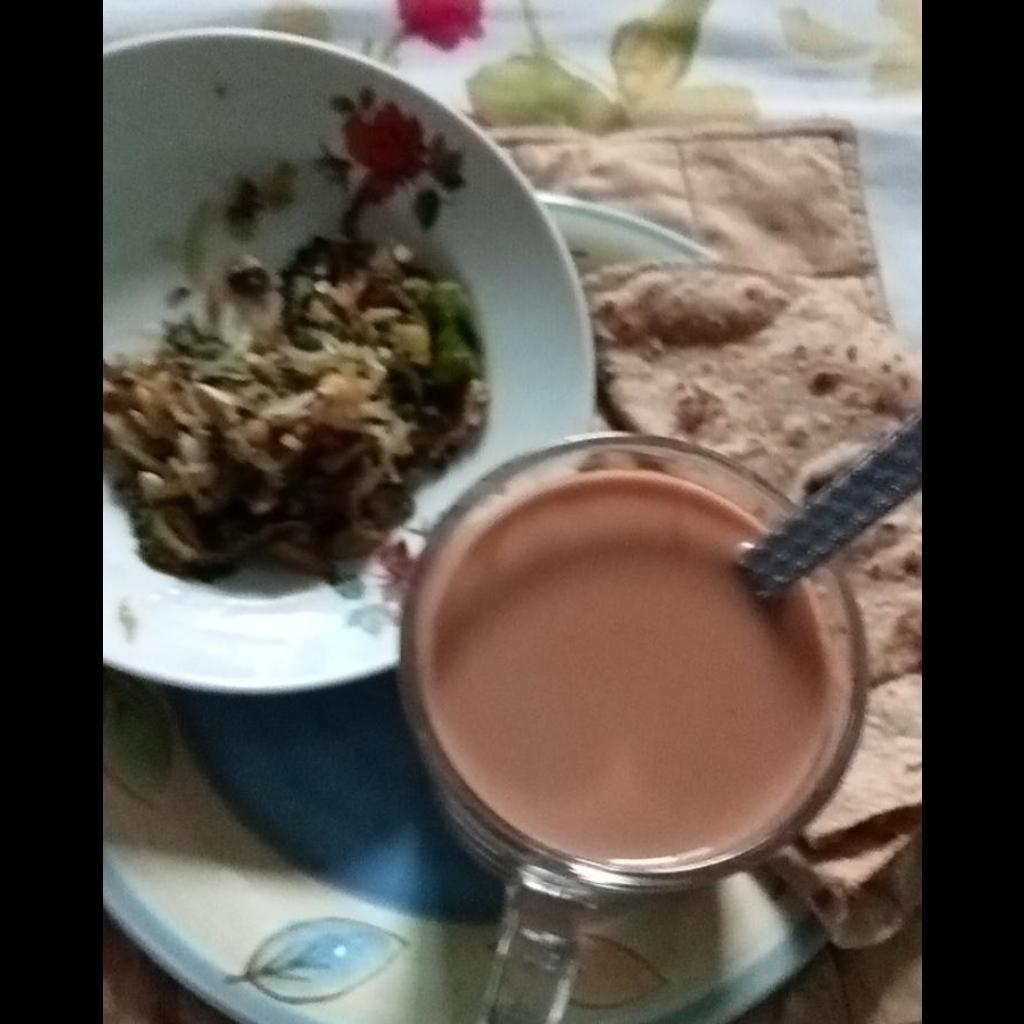cha: (422, 475, 824, 863)
noodles: (102, 237, 485, 583)
ruti: (584, 263, 920, 502), (815, 495, 920, 833)
